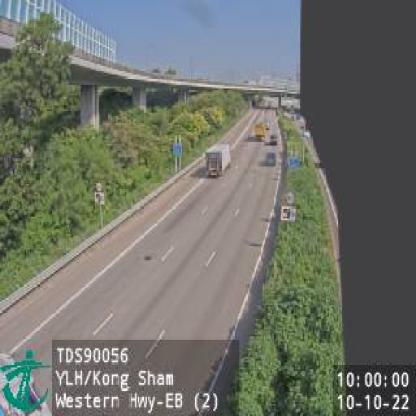Car: (265, 149, 276, 164)
Truck: (206, 142, 234, 178)
